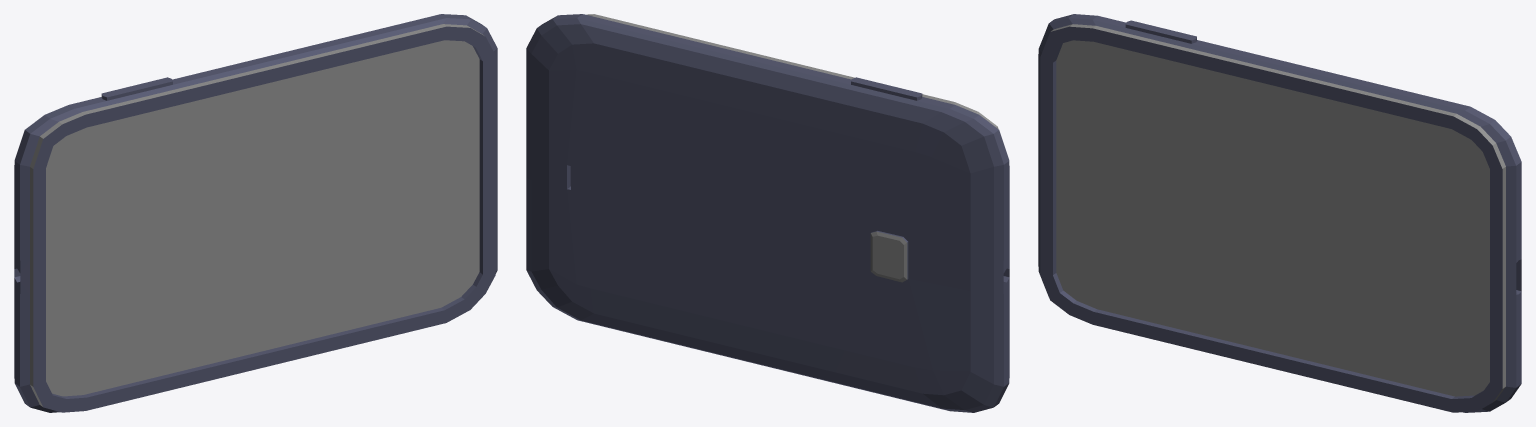
File: Tablet.fbx
The picture shows the model from 3 angles, left to right: view 1: azimuth 30°, elevation 25°; view 2: azimuth 150°, elevation 25°; view 3: azimuth 330°, elevation 25°; orthographic projection.
Parts seen in each view (by area): view 1: Tablet; view 2: Tablet; view 3: Tablet.
Boxes of the visible parts, <box> form: Tablet: <box>14,14,497,412</box>; Tablet: <box>526,14,1009,412</box>; Tablet: <box>1038,14,1521,412</box>.
Size of the model in its own units: 0.8721 by 0.5333 by 0.0593.
